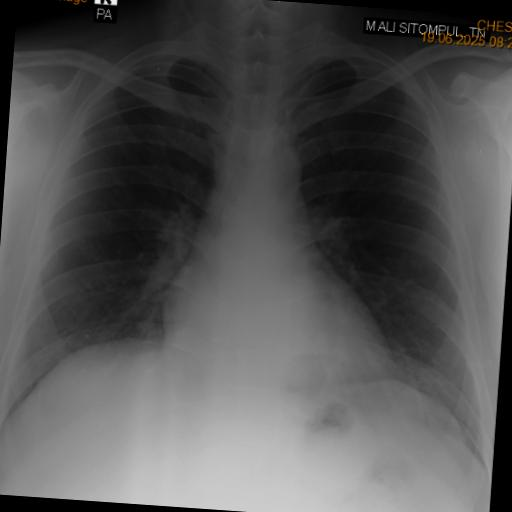normal: (0, 26, 512, 497)
